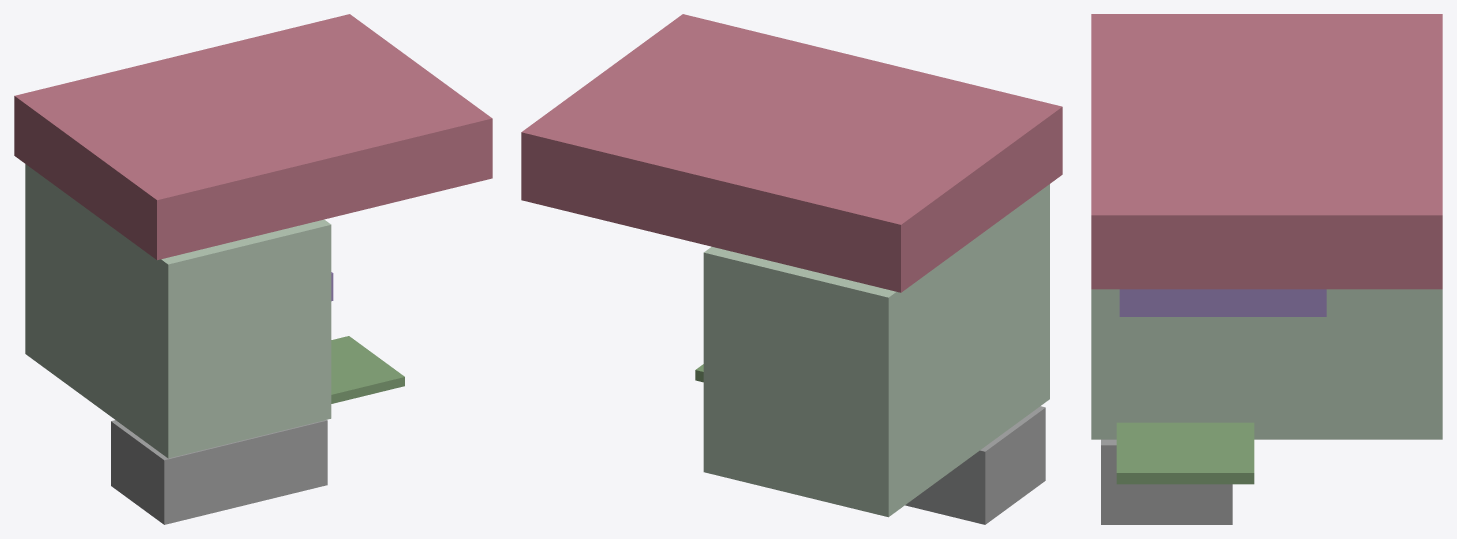
3 views of the same model, side by side, from view 1: azimuth 30°, elevation 25°; view 2: azimuth 150°, elevation 25°; view 3: azimuth 270°, elevation 25° (orthographic). The views are drawn at different scales.
Visible parts, largest first — view 1: world; view 2: world; view 3: world.
Boxes of the visible parts, x1,y1,x2,y2 form: world: (14,14,492,524); world: (521,14,1062,524); world: (1091,14,1442,524).
Bounding box in the file's own units: 7.6 × 7.15 × 5.6.
